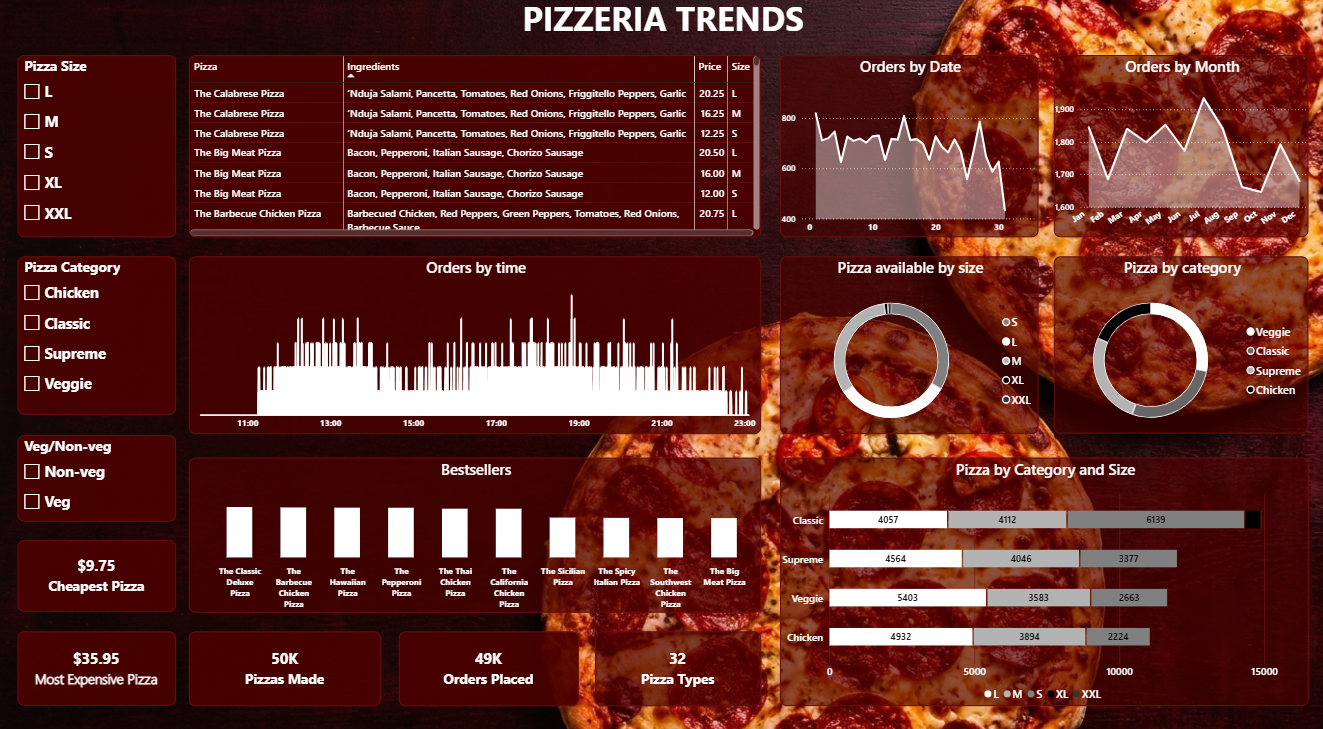

What the dashboard file says about the page in this screenshot:
{"tool":"powerbi","page":{"name":"Overview","canvas":[1920,1080],"ordinal":0},"visuals":[{"type":"textbox","box":[709.4,0,501.3,68.8],"z":0},{"type":"slicer","fields":{"Values":["pizzas.size"]},"box":[26,86.6,229.4,264],"z":1},{"type":"slicer","fields":{"Values":["pizza_types.category"]},"box":[26,378.7,229.4,229.4],"z":2},{"type":"slicer","fields":{"Values":["pizza_types.Veg/Non-veg"]},"box":[26,636.3,229.4,125.5],"z":3},{"type":"cardVisual","fields":{"Data":["_Measure.Most Expensive Pizza"]},"box":[26,921.9,229.4,108.2],"z":4},{"type":"cardVisual","fields":{"Data":["_Measure.Cheapest Pizza"]},"box":[26,789.9,229.4,103.9],"z":5},{"type":"cardVisual","fields":{"Data":["_Measure.Pizzas Made"]},"box":[273.3,921.1,278.7,108.6],"z":6},{"type":"cardVisual","fields":{"Data":["_Measure.Orders Placed"]},"box":[576.4,921.1,260.6,108.6],"z":7},{"type":"cardVisual","fields":{"Data":["_Measure.Types of Pizza"]},"box":[861.4,921.1,240.7,108.6],"z":8},{"type":"tableEx","fields":{"Values":["pizza_types.name","pizza_types.ingredients","Sum(pizzas.price)","pizzas.size"]},"box":[272.7,86.6,828.9,264],"z":9},{"type":"areaChart","title":"Orders by time","fields":{"Category":["orders.time"],"Y":["CountNonNull(orders.order_id)"]},"box":[272.7,378.7,828.9,257.5],"z":10},{"type":"clusteredColumnChart","title":"Bestsellers","fields":{"Category":["pizza_types.name"],"Y":["Sum(order_details.quantity)"]},"box":[272.7,668.7,828.9,225.1],"z":11},{"type":"areaChart","title":"Orders by Date","fields":{"Category":["orders.date.Variation.Date Hierarchy.Day"],"Y":["CountNonNull(orders.order_id)"]},"box":[1129.2,86.9,374.6,264.2],"z":12},{"type":"areaChart","title":"Orders by Month","fields":{"Category":["orders.Month Name"],"Y":["CountNonNull(orders.order_id)"]},"box":[1525.5,86.9,369.2,264.2],"z":13},{"type":"donutChart","title":"Pizza available by size","fields":{"Category":["pizzas.size"],"Y":["CountNonNull(pizzas.pizza_id)"]},"box":[1129.7,378.7,374.4,257.5],"z":14},{"type":"donutChart","title":"Pizza by category","fields":{"Category":["pizza_types.category"],"Y":["CountNonNull(pizzas.pizza_id)"]},"box":[1525.5,378.2,369.2,257],"z":15},{"type":"barChart","title":"Pizza by Category and Size","fields":{"Category":["pizza_types.category"],"Series":["pizzas.size"],"Y":["Sum(order_details.quantity)"]},"box":[1129.7,668.7,766.1,361.4],"z":16}]}

Visuals, with their boxes in screenshot pixels (x1, y1, x2, y2), scaled from the page's 1920x1080 canvas onto the 1323x729 screenshot:
textbox: detection(489, 0, 834, 46)
slicer - pizzas.size: detection(18, 58, 176, 237)
slicer - pizza_types.category: detection(18, 256, 176, 410)
slicer - pizza_types.Veg/Non-veg: detection(18, 430, 176, 514)
cardVisual - _Measure.Most Expensive Pizza: detection(18, 622, 176, 695)
cardVisual - _Measure.Cheapest Pizza: detection(18, 533, 176, 603)
cardVisual - _Measure.Pizzas Made: detection(188, 622, 380, 695)
cardVisual - _Measure.Orders Placed: detection(397, 622, 577, 695)
cardVisual - _Measure.Types of Pizza: detection(594, 622, 759, 695)
tableEx - pizza_types.name x pizza_types.ingredients: detection(188, 58, 759, 237)
"Orders by time" areaChart: detection(188, 256, 759, 429)
"Bestsellers" clusteredColumnChart: detection(188, 451, 759, 603)
"Orders by Date" areaChart: detection(778, 59, 1036, 237)
"Orders by Month" areaChart: detection(1051, 59, 1306, 237)
"Pizza available by size" donutChart: detection(778, 256, 1036, 429)
"Pizza by category" donutChart: detection(1051, 255, 1306, 429)
"Pizza by Category and Size" barChart: detection(778, 451, 1306, 695)
